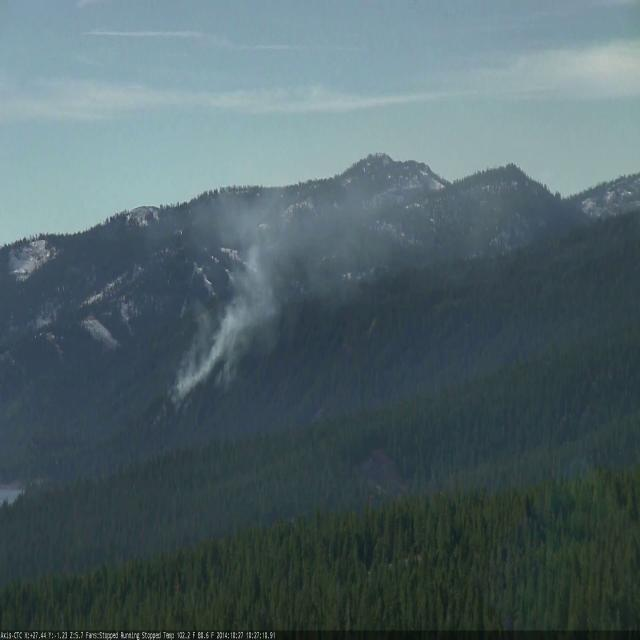smoke: (151, 140, 411, 437)
